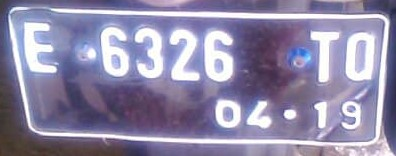plate: (7, 5, 388, 146)
